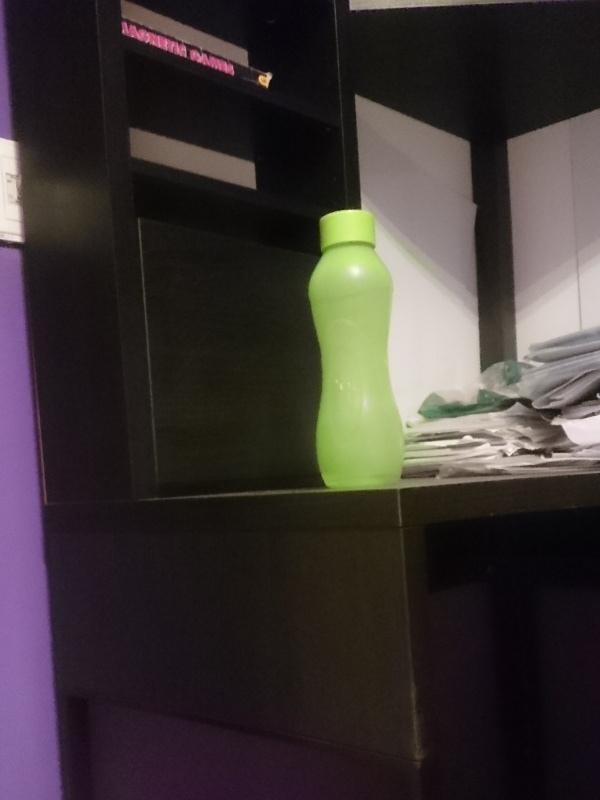my bottle: (311, 208, 399, 493)
